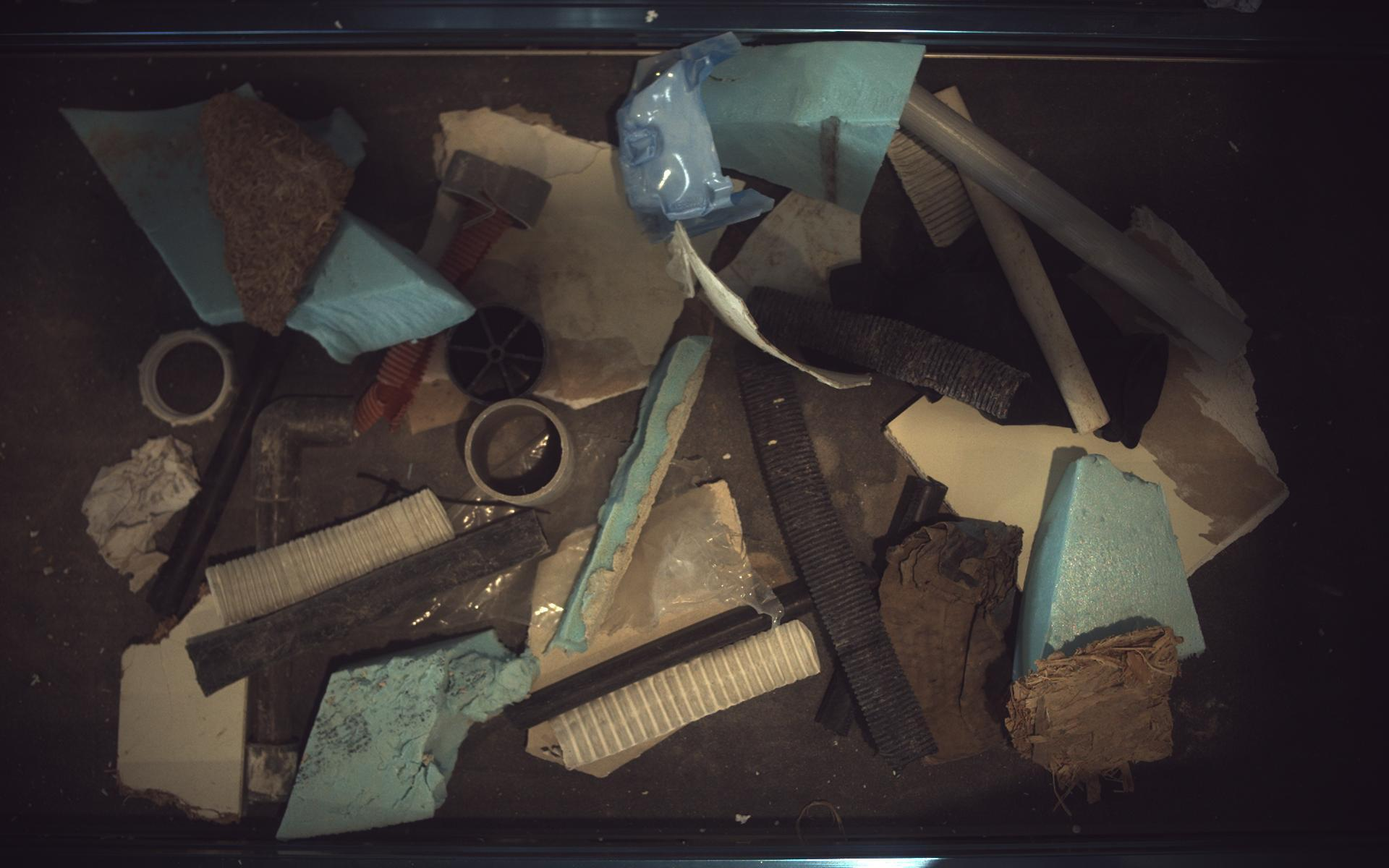foam: (277, 631, 539, 841), (550, 336, 713, 653), (1016, 455, 1207, 680), (61, 101, 243, 325), (702, 41, 926, 213), (286, 210, 474, 362), (298, 107, 366, 167)
general_w: (388, 426, 629, 641), (831, 225, 1074, 427), (881, 519, 1025, 765), (618, 31, 774, 242), (603, 459, 784, 633), (1054, 273, 1171, 448), (80, 436, 199, 593), (484, 427, 564, 496), (447, 487, 530, 535), (358, 472, 422, 509), (436, 496, 549, 514)
gypsum_board: (890, 266, 1291, 586), (434, 105, 685, 409), (529, 481, 757, 691), (1129, 205, 1249, 320), (407, 339, 469, 433), (579, 735, 671, 780), (417, 190, 466, 268), (526, 723, 564, 767), (691, 226, 729, 265), (733, 180, 747, 194)
pipes: (902, 85, 1254, 362), (738, 343, 939, 773), (186, 511, 550, 697), (146, 330, 292, 622), (547, 621, 822, 772), (965, 174, 1112, 434), (748, 287, 1032, 419), (205, 490, 454, 626), (504, 606, 769, 730), (251, 396, 355, 552), (465, 398, 574, 506), (889, 129, 979, 247), (441, 149, 551, 228), (243, 663, 299, 807), (354, 336, 434, 433), (878, 475, 949, 575), (438, 201, 513, 287), (816, 663, 859, 738), (776, 580, 814, 624), (936, 85, 972, 119), (864, 566, 881, 592)
plastic: (666, 192, 872, 388), (447, 305, 548, 404), (137, 328, 233, 426)
wood: (199, 92, 352, 335), (1008, 628, 1184, 807), (116, 585, 247, 825)
